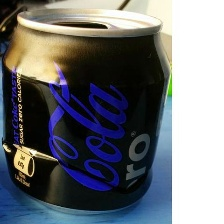can: (0, 5, 172, 215)
